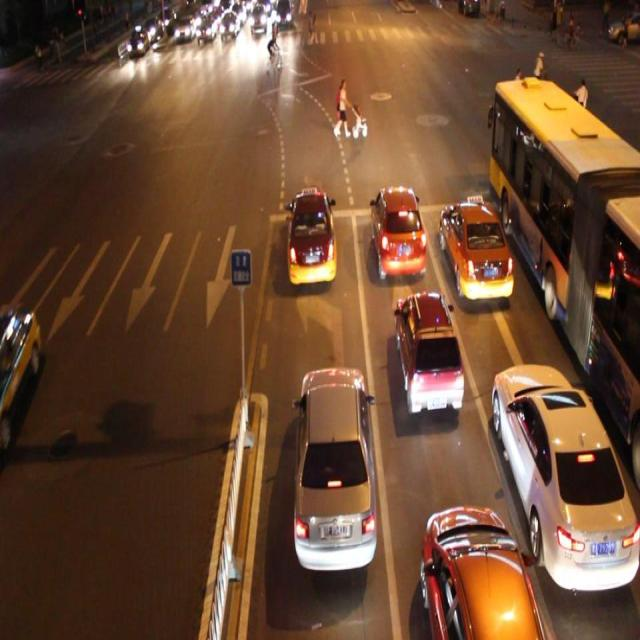car: (490, 362, 640, 593), (293, 364, 377, 574), (421, 503, 543, 640), (394, 292, 463, 416), (440, 198, 512, 306), (1, 302, 42, 438), (370, 184, 426, 279), (285, 187, 336, 287)
van: (491, 75, 640, 464)
